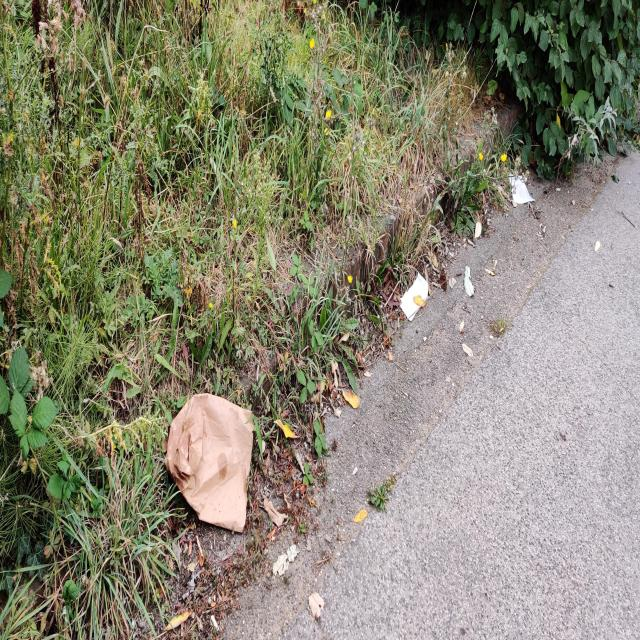litter: (169, 392, 253, 532)
